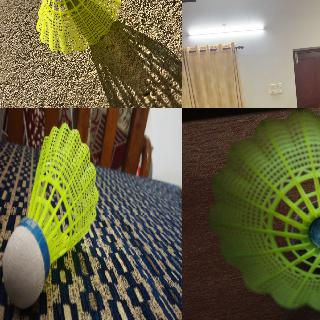shuttlecock: (209, 109, 319, 312), (3, 122, 98, 308), (37, 0, 122, 54)
